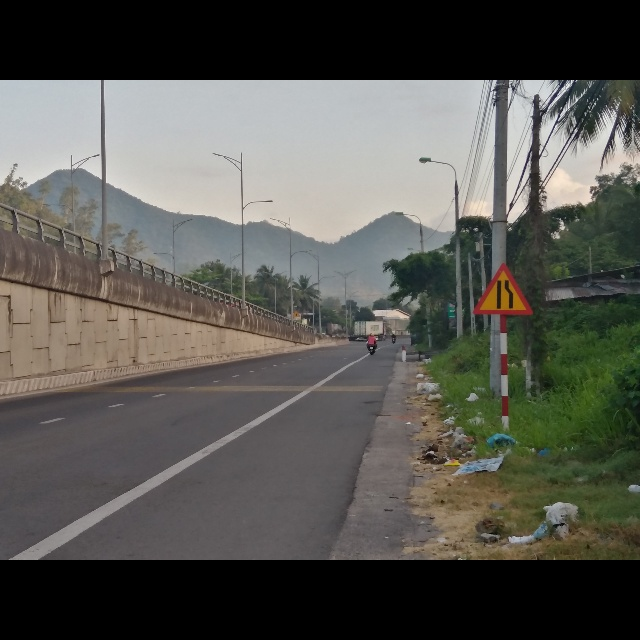Đường bị hẹp bên phải: (473, 262, 533, 316)
